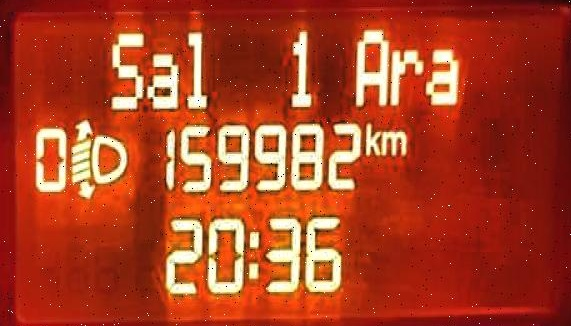0: (205, 215, 242, 293), (32, 122, 67, 197)
1: (287, 20, 316, 110), (156, 121, 175, 190)
2: (162, 213, 201, 298), (327, 117, 360, 192)
3: (266, 212, 300, 293)
5: (178, 118, 212, 193)
6: (305, 212, 345, 297)
8: (290, 118, 321, 192)
9: (252, 120, 286, 195), (215, 120, 249, 190)
X: (352, 25, 388, 105), (107, 28, 141, 110), (182, 25, 208, 110), (426, 42, 458, 108), (388, 45, 423, 103), (146, 48, 180, 107), (245, 225, 261, 285), (381, 125, 405, 156), (362, 118, 378, 155)
